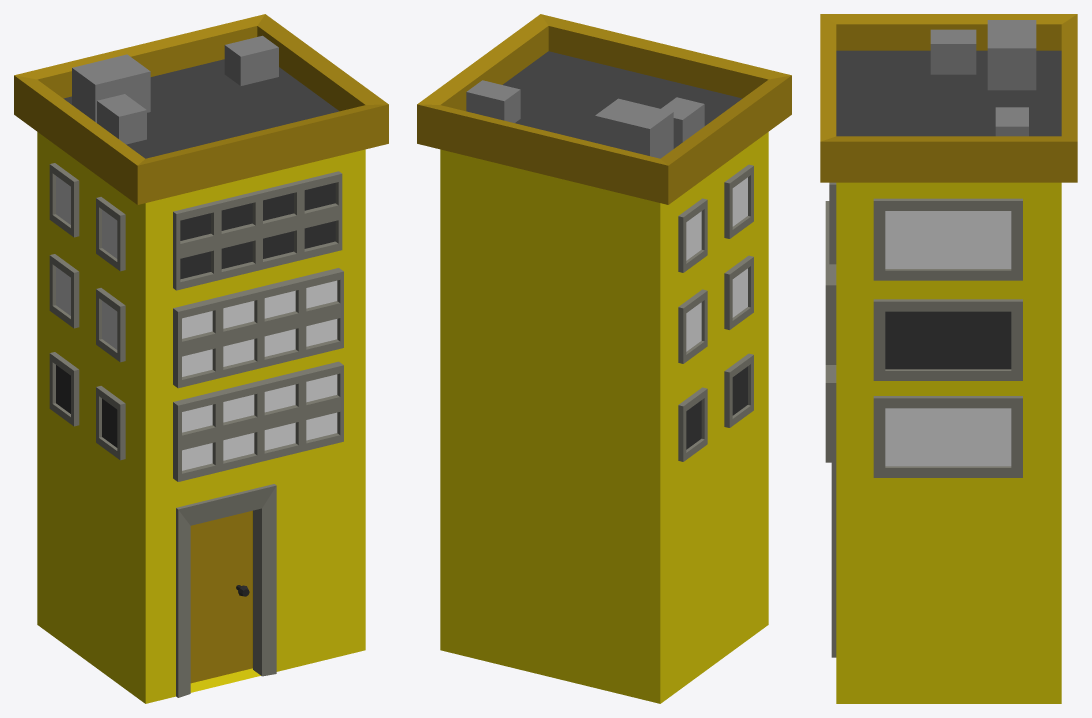
Rendered from building3.fbx.
The picture shows the model from 3 angles, left to right: view 1: azimuth 30°, elevation 25°; view 2: azimuth 150°, elevation 25°; view 3: azimuth 270°, elevation 25°; orthographic projection. The views are drawn at different scales.
Visible parts, largest first — view 1: building3; view 2: building3; view 3: building3.
Part boxes in pixels (<box>): building3: <box>14,14,388,703</box>; building3: <box>417,14,791,703</box>; building3: <box>820,14,1077,703</box>.
Size of the model in its own units: 750 by 1599 by 639.
